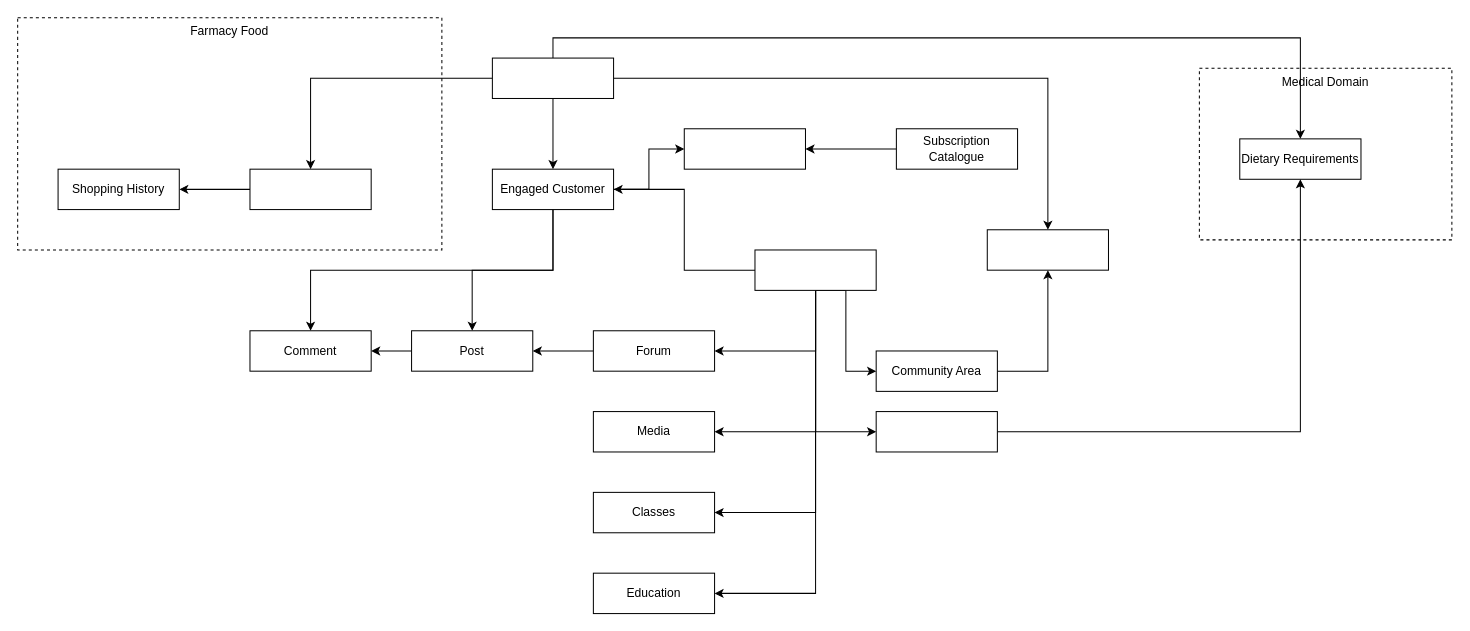
The diagram is 1470 pixels wide and 631 high, and some of its shapes have lost their labels. Here are the shapes that lost their labels. From the top down, the centre of each, then its label:
At [552,77]: "Customer".
At [744,148]: "Subscription".
At [310,189]: "Transactional Customer".
At [815,269]: "Community".
At [1047,249]: "Location Zone".
At [936,431]: "Community Interest".
